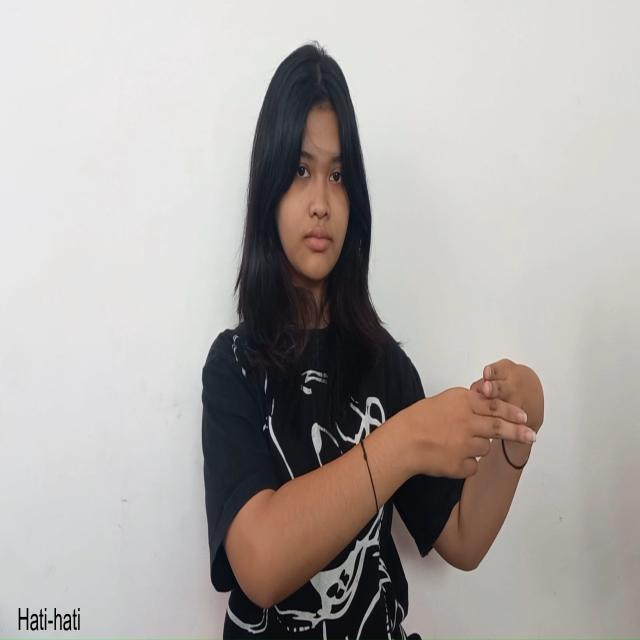Hati-hati -BISINDO-: (400, 357, 546, 482)
